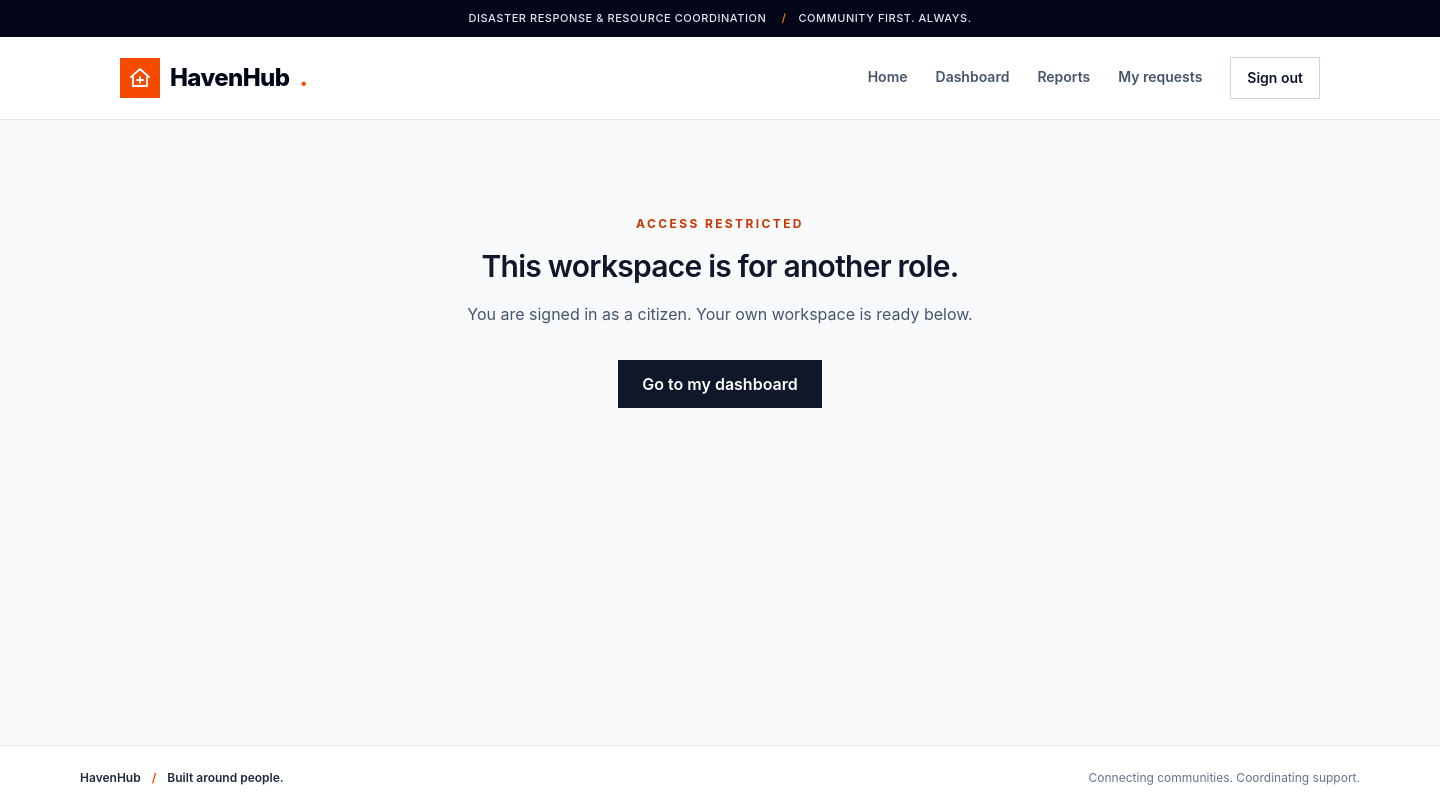
Test case: blocks a citizen from the admin route and links to their own dashboard
Expected: the heading "This workspace is for another role." is shown, 467,248 -> 973,284
What coordinates should you click on to do the following:
click the link "Go to my dashboard"
I would click on:
 (720, 384)
Its box is 618,360 -> 822,408.
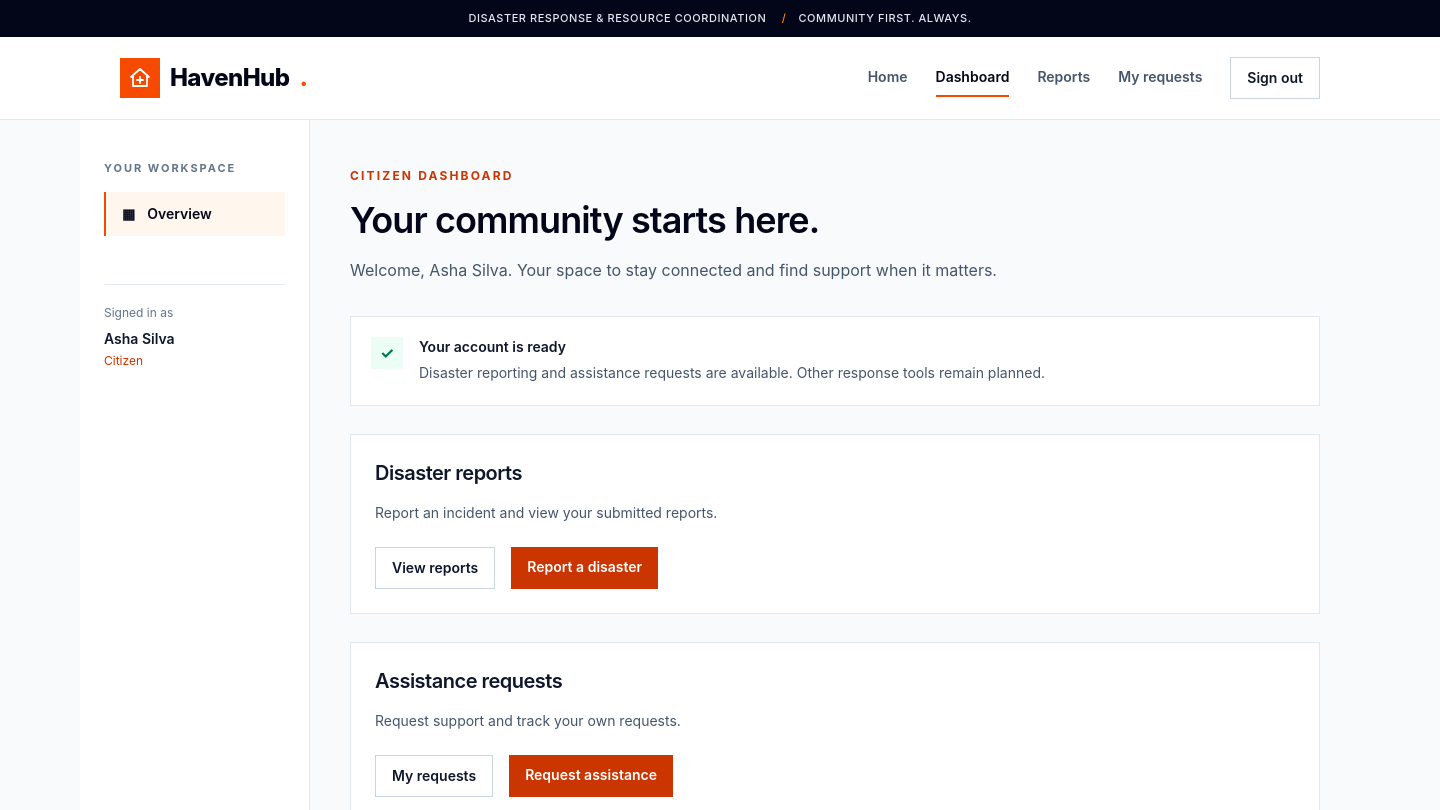
Expected: the heading "Your community starts here." is shown, 350,198 -> 819,242
